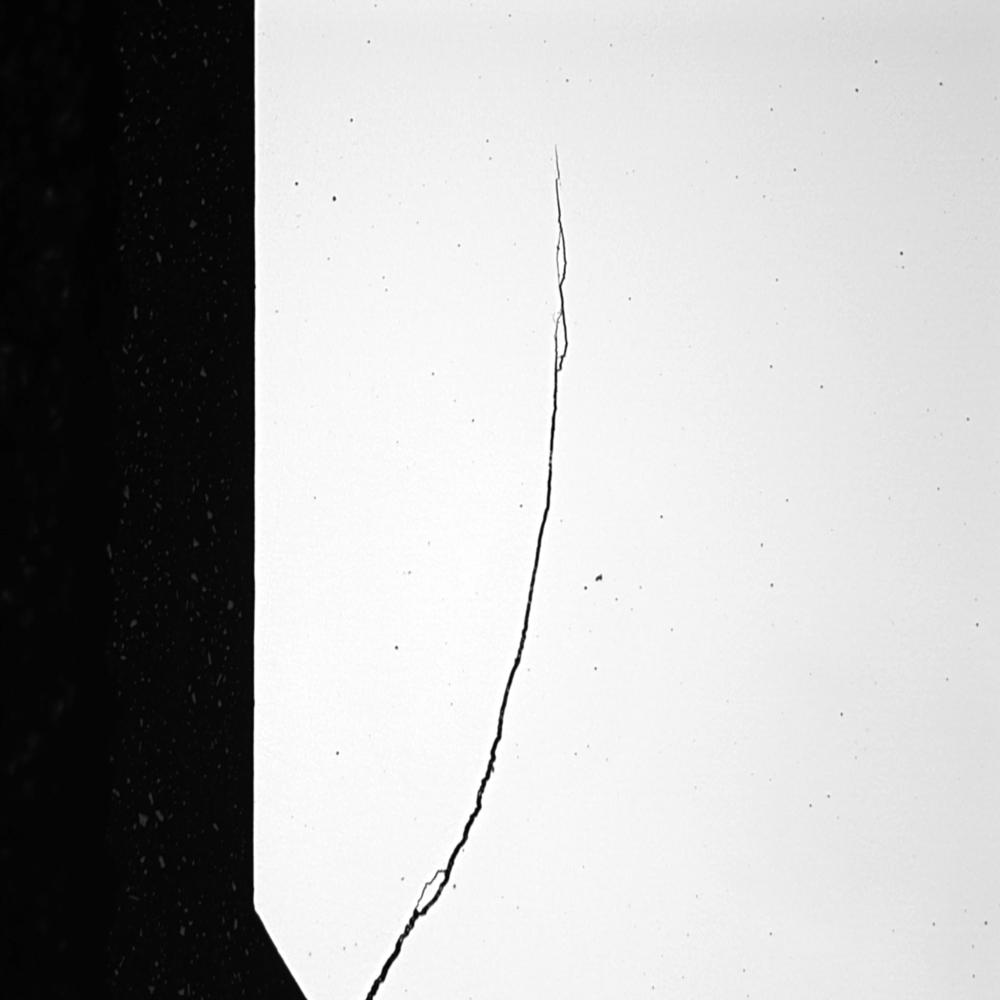crack: (338, 125, 600, 989)
